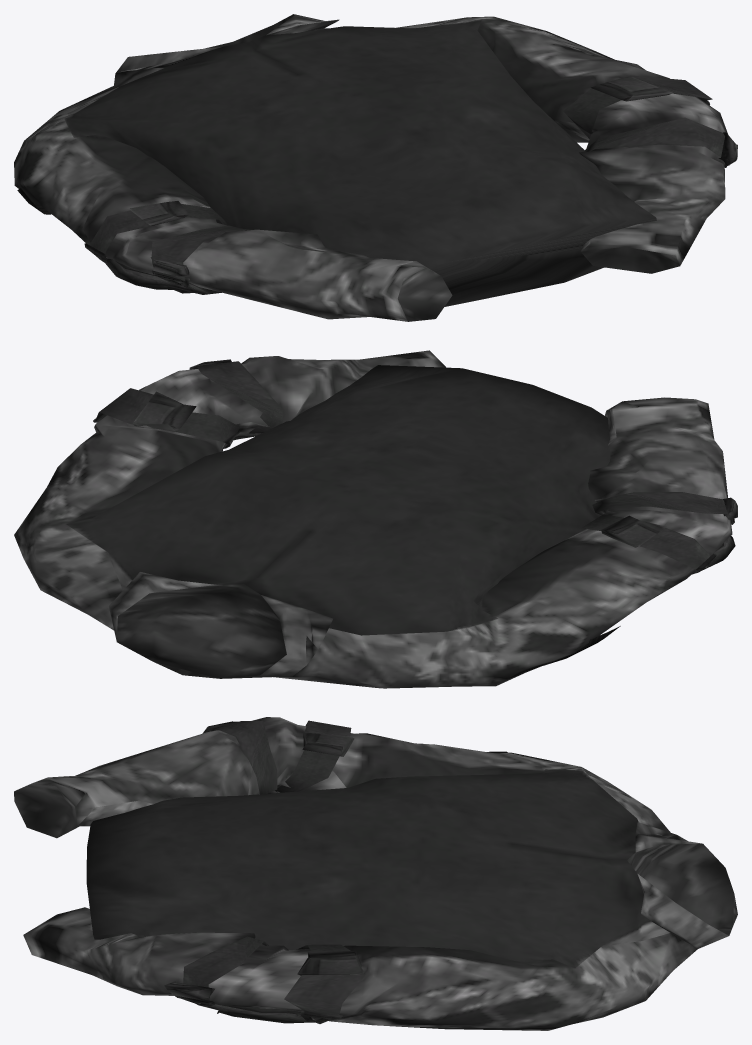
Rendered from TaskForceShirt_Ground.fbx.
3 renders of one model, top to bottom at view 1: azimuth 30°, elevation 25°; view 2: azimuth 150°, elevation 25°; view 3: azimuth 270°, elevation 25°, orthographic.
Parts seen in each view (by area): view 1: Shirt; view 2: Shirt; view 3: Shirt.
Part boxes in pixels (x1=…): Shirt: x1=14, y1=14, x2=737, y2=321; Shirt: x1=14, y1=350, x2=737, y2=688; Shirt: x1=14, y1=717, x2=737, y2=1030.
Size of the model in its own units: 0.3102 by 0.0507 by 0.3236.
